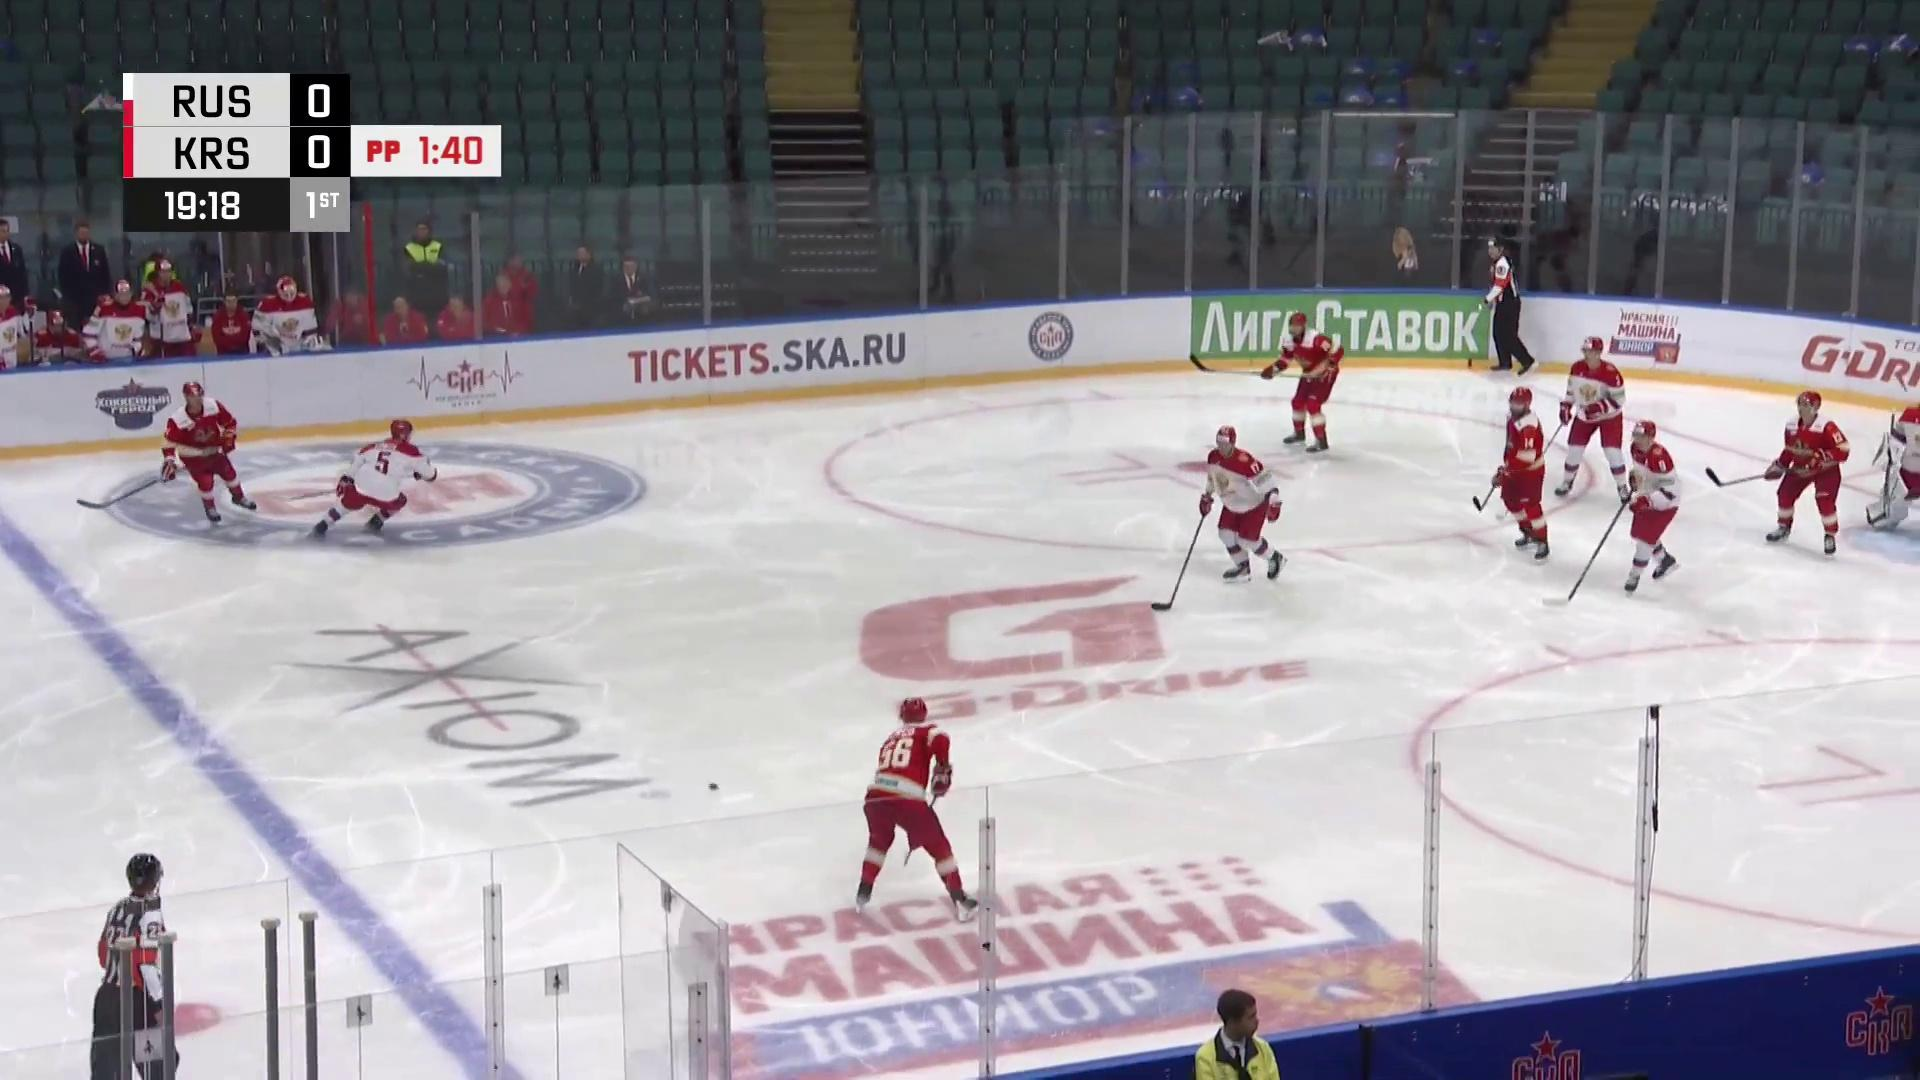ball: (705, 782, 721, 791)
